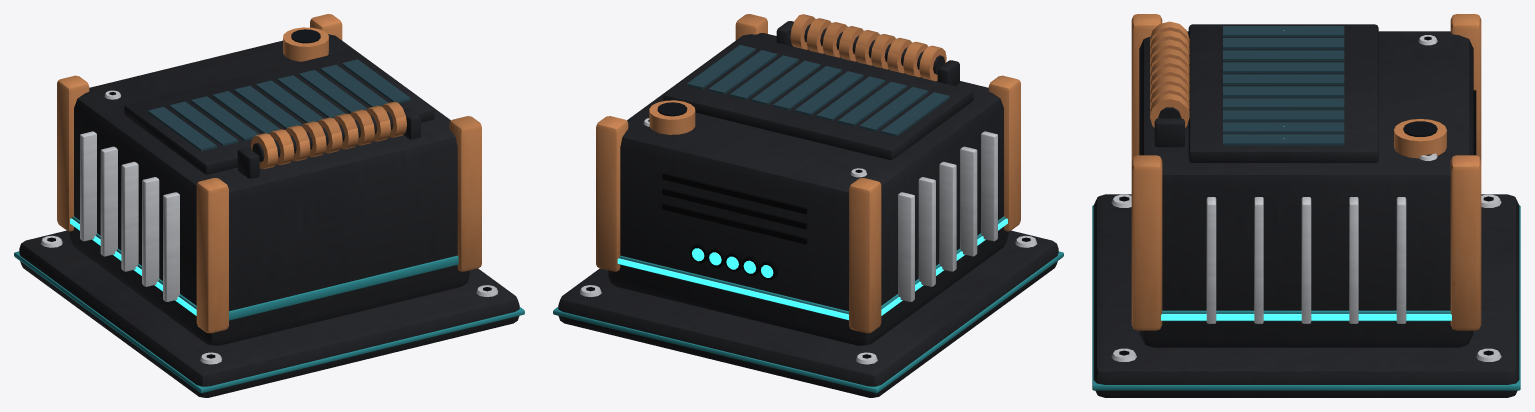
File: controller_5.glb
3 views of the same model, side by side, from view 1: azimuth 30°, elevation 25°; view 2: azimuth 150°, elevation 25°; view 3: azimuth 270°, elevation 25° (orthographic). The views are drawn at different scales.
Visible parts, largest first — view 1: Body; view 2: Body, RunningLight; view 3: Body, SideGlowR.
Boxes of the visible parts, left/top/right/bottom form: Body: left=14, top=14, right=524, bottom=397; Body: left=553, top=14, right=1063, bottom=397; RunningLight: left=617, top=258, right=848, bottom=319; Body: left=1092, top=14, right=1520, bottom=397; SideGlowR: left=1161, top=314, right=1451, bottom=320.
Size of the model in its own units: 0.2256 by 0.1465 by 0.2256.
9 materials, 3 textured.
